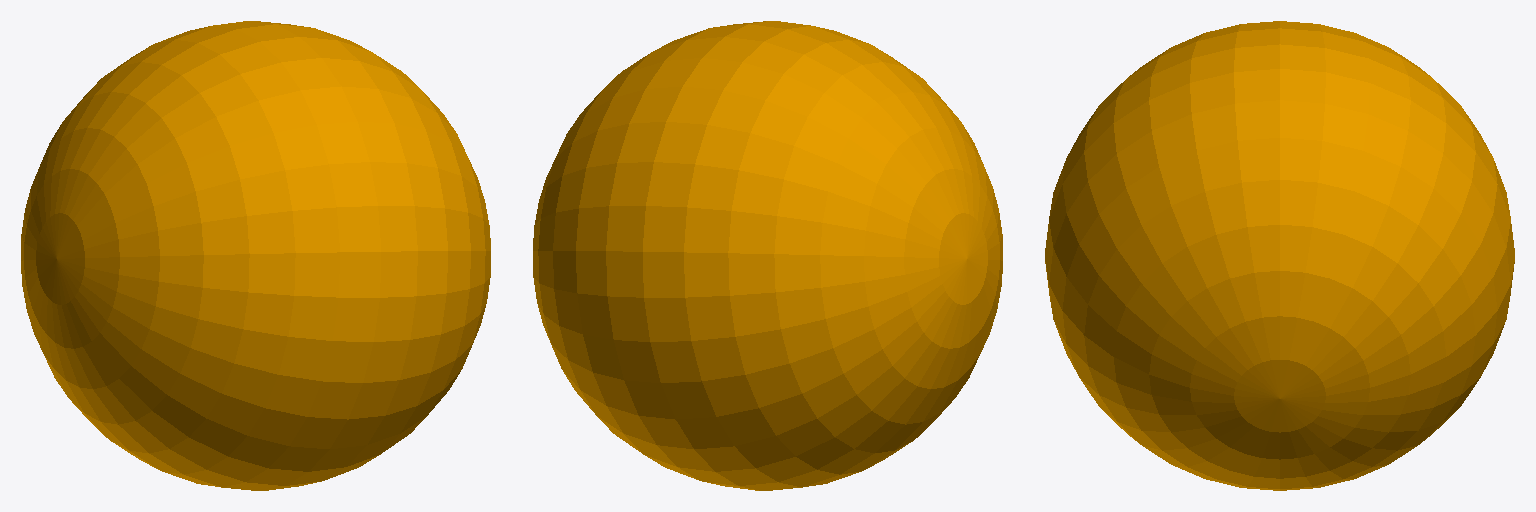
URDF robot description (panda):
<?xml version='1.0' encoding='utf-8'?>
<robot name="panda">

    <link name="link0">
      <inertial>
        <origin xyz="0 0 0.05" rpy="0 0 0" />
        <mass value="4" />
        <inertia ixx="0.4" iyy="0.4" izz="0.4" ixy="0" ixz="0" iyz="0" />
      </inertial>
      <visual>
        <geometry>
          <mesh filename="../../../../examples/models/panda/meshes/visual/link0.obj"/>
        </geometry>
      </visual>
    </link>
    <link name="link1">
      <inertial>
        <origin xyz="0 0 -0.07" rpy="0 -0 0" />
        <mass value="3" />
        <inertia ixx="0.3" iyy="0.3" izz="0.3" ixy="0" ixz="0" iyz="0" />
      </inertial>
      <visual>
        <geometry>
          <mesh filename="../../../../examples/models/panda/meshes/visual/link1.obj"/>
        </geometry>
      </visual>
    </link>
    <link name="link2">
      <inertial>
        <origin xyz="0 -0.1 0" rpy="0 -0 0" />
        <mass value="3" />
        <inertia ixx="0.3" iyy="0.3" izz="0.3" ixy="0" ixz="0" iyz="0" />
      </inertial>
      <visual>
        <geometry>
          <mesh filename="../../../../examples/models/panda/meshes/visual/link2.obj"/>
        </geometry>
      </visual>
    </link>
    <link name="link3">
      <inertial>
        <origin xyz="0.04 0 -0.05" rpy="0 -0 0" />
        <mass value="2" />
        <inertia ixx="0.2" iyy="0.2" izz="0.2" ixy="0" ixz="0" iyz="0" />
      </inertial>
      <visual>
        <geometry>
          <mesh filename="../../../../examples/models/panda/meshes/visual/link3.obj"/>
        </geometry>
      </visual>
    </link>
    <link name="link4">
      <inertial>
        <origin xyz="-0.04 0.05 0" rpy="0 -0 0" />
        <mass value="2" />
        <inertia ixx="0.2" iyy="0.2" izz="0.2" ixy="0" ixz="0" iyz="0" />
      </inertial>
      <visual>
        <geometry>
          <mesh filename="../../../../examples/models/panda/meshes/visual/link4.obj"/>
        </geometry>
      </visual>   
    </link>
    <link name="link5">
      <inertial>
        <origin xyz="0 0 -0.15" rpy="0 -0 0" />
        <mass value="2" />
        <inertia ixx="0.2" iyy="0.2" izz="0.2" ixy="0" ixz="0" iyz="0" />
      </inertial>
      <visual>
        <geometry>
          <mesh filename="../../../../examples/models/panda/meshes/visual/link5.obj"/>
        </geometry>
      </visual>
    </link>
    <link name="link6">
      <inertial>
        <origin xyz="0.06 0 0" rpy="0 -0 0" />
        <mass value="1.5" />
        <inertia ixx="0.1" iyy="0.1" izz="0.1" ixy="0" ixz="0" iyz="0" />
      </inertial>
      <visual>
        <geometry>
          <mesh filename="../../../../examples/models/panda/meshes/visual/link6.obj"/>
        </geometry>
      </visual>
    </link>
    <link name="link7">
      <inertial>
        <origin xyz="0 0 0.17" rpy="0 -0 0" />
        <mass value="1.8" />
        <inertia ixx="0.09" iyy="0.05" izz="0.07" ixy="0" ixz="0" iyz="0" />
      </inertial>
      <visual>
        <geometry>
          <mesh filename="../../../../examples/models/panda/meshes/visual/link7.obj"/>
        </geometry>
      </visual>
    </link>
    <link name="end-effector">
      <inertial>
        <origin xyz="0 0 0" rpy="0 -0 0" />
        <mass value="0.2" />
        <inertia ixx="0.01" iyy="0.01" izz="0.01" ixy="0" ixz="0" iyz="0" />
      </inertial>
      <visual>
        <geometry>
          <sphere radius="0.04" />
        </geometry>
      </visual>
      <collision>
        <geometry>
          <sphere radius="0.04" />
        </geometry>
      </collision>
    </link>
  
    <joint name="joint1" type="revolute">
      <safety_controller k_position="100.0" k_velocity="40.0" soft_lower_limit="-2.8973" soft_upper_limit="2.8973"/>
      <origin rpy="0 0 0" xyz="0 0 0.333"/>
      <parent link="link0"/>
      <child link="link1"/>
      <axis xyz="0 0 1"/>
      <calibration falling="0.0" />
      <limit effort="87" lower="-2.8973" upper="2.8973" velocity="2.1750"/>
    </joint>
    <joint name="joint2" type="revolute">
      <safety_controller k_position="100.0" k_velocity="40.0" soft_lower_limit="-1.7628" soft_upper_limit="1.7628"/>
      <origin rpy="-1.57079632679 0 0" xyz="0 0 0"/>
      <parent link="link1"/>
      <child link="link2"/>
      <axis xyz="0 0 1"/>
      <calibration falling="-25.0" />
      <limit effort="87" lower="-1.7628" upper="1.7628" velocity="2.1750"/>
    </joint>
    <joint name="joint3" type="revolute">
      <safety_controller k_position="100.0" k_velocity="40.0" soft_lower_limit="-2.8973" soft_upper_limit="2.8973"/>
      <origin rpy="1.57079632679 0 0" xyz="0 -0.316 0"/>
      <parent link="link2"/>
      <child link="link3"/>
      <axis xyz="0 0 1"/>
      <limit effort="87" lower="-2.8973" upper="2.8973" velocity="2.1750"/>
    </joint>
    <joint name="joint4" type="revolute">
      <safety_controller k_position="100.0" k_velocity="40.0" soft_lower_limit="-3.0718" soft_upper_limit="-0.0698"/>
      <origin rpy="1.57079632679 0 0" xyz="0.0825 0 0"/>
      <parent link="link3"/>
      <child link="link4"/>
      <axis xyz="0 0 1"/>
      <calibration falling="-135.0" />
      <!-- <limit effort="87" lower="-3.0718" upper="-0.0698" velocity="2.1750"/> -->
      <limit effort="87" lower="-3.0718" upper="-0.5" velocity="2.1750"/>
    </joint>
    <joint name="joint5" type="revolute">
      <safety_controller k_position="100.0" k_velocity="40.0" soft_lower_limit="-2.8973" soft_upper_limit="2.8973"/>
      <origin rpy="-1.57079632679 0 0" xyz="-0.0825 0.384 0"/>
      <parent link="link4"/>
      <child link="link5"/>
      <axis xyz="0 0 1"/>
      <calibration falling="0.0" />
      <limit effort="12" lower="-2.8973" upper="2.8973" velocity="2.6100"/>
    </joint>
    <joint name="joint6" type="revolute">
      <safety_controller k_position="100.0" k_velocity="40.0" soft_lower_limit="-0.0175" soft_upper_limit="3.7525"/>
      <origin rpy="1.57079632679 0 0" xyz="0 0 0"/>
      <parent link="link5"/>
      <child link="link6"/>
      <axis xyz="0 0 1"/>
      <calibration falling="105.0" />
      <limit effort="12" lower="-0.0175" upper="3.7525" velocity="2.6100"/>
    </joint>
    <joint name="joint7" type="revolute">
      <safety_controller k_position="100.0" k_velocity="40.0" soft_lower_limit="-2.8973" soft_upper_limit="2.8973"/>
      <origin rpy="1.57079632679 0 0" xyz="0.088 0 0"/>
      <parent link="link6"/>
      <child link="link7"/>
      <axis xyz="0 0 1"/>
      <limit effort="12" lower="-2.8973" upper="2.8973" velocity="2.6100"/>
    </joint>
    <joint name="joint_ee" type="fixed">
      <origin rpy="0 0 0" xyz="0 0 0.15"/>
      <parent link="link7"/>
      <child link="end-effector"/>
    </joint>
</robot>

--- What the picture shows (computed from the rendered views, not written in the file) ---
3 views of the same robot in one strip: view 1: azimuth 30°, elevation 25°; view 2: azimuth 150°, elevation 25°; view 3: azimuth 270°, elevation 25° (orthographic).
Model panda with 9 links and 8 joints (7 revolute, 1 fixed), rooted at link0, posed joints at zero except 1 at the middle of their limits (joint4 = -1.79).
Visible links, largest first — view 1: end-effector; view 2: end-effector; view 3: end-effector.
Boxes of the visible links, box(x1,y1,x2,y2) form: end-effector: box(21, 21, 490, 490); end-effector: box(533, 21, 1002, 490); end-effector: box(1045, 21, 1514, 490).
Bounding box of the posed robot: 0.08 × 0.08 × 0.08 m (x, y, z).
Geometry: only primitive shapes (box / cylinder / sphere) drawn; not drawn: 8 mesh visuals (reference in a form the renderer does not follow).